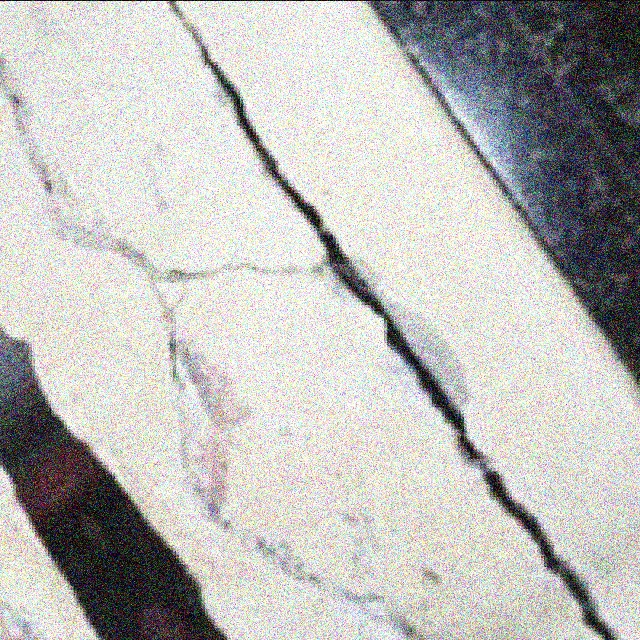SurfaceCrack: (312, 266, 624, 640), (152, 0, 376, 336)
